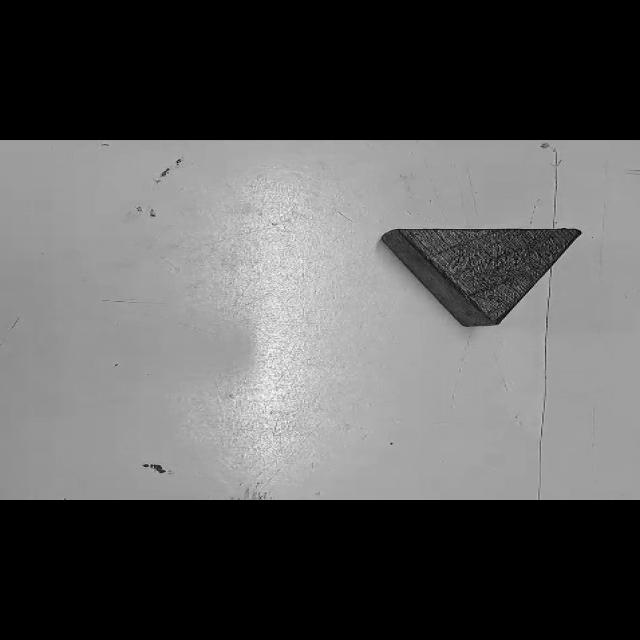btriangle: (387, 228, 578, 325)
